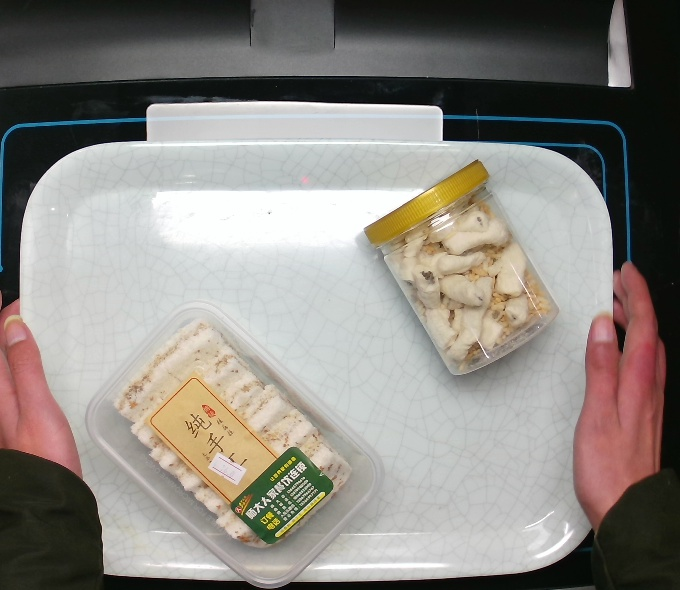wcq-GuiHuaGao: (83, 296, 386, 590)
wcq-MaiYaTang: (359, 152, 565, 379)
